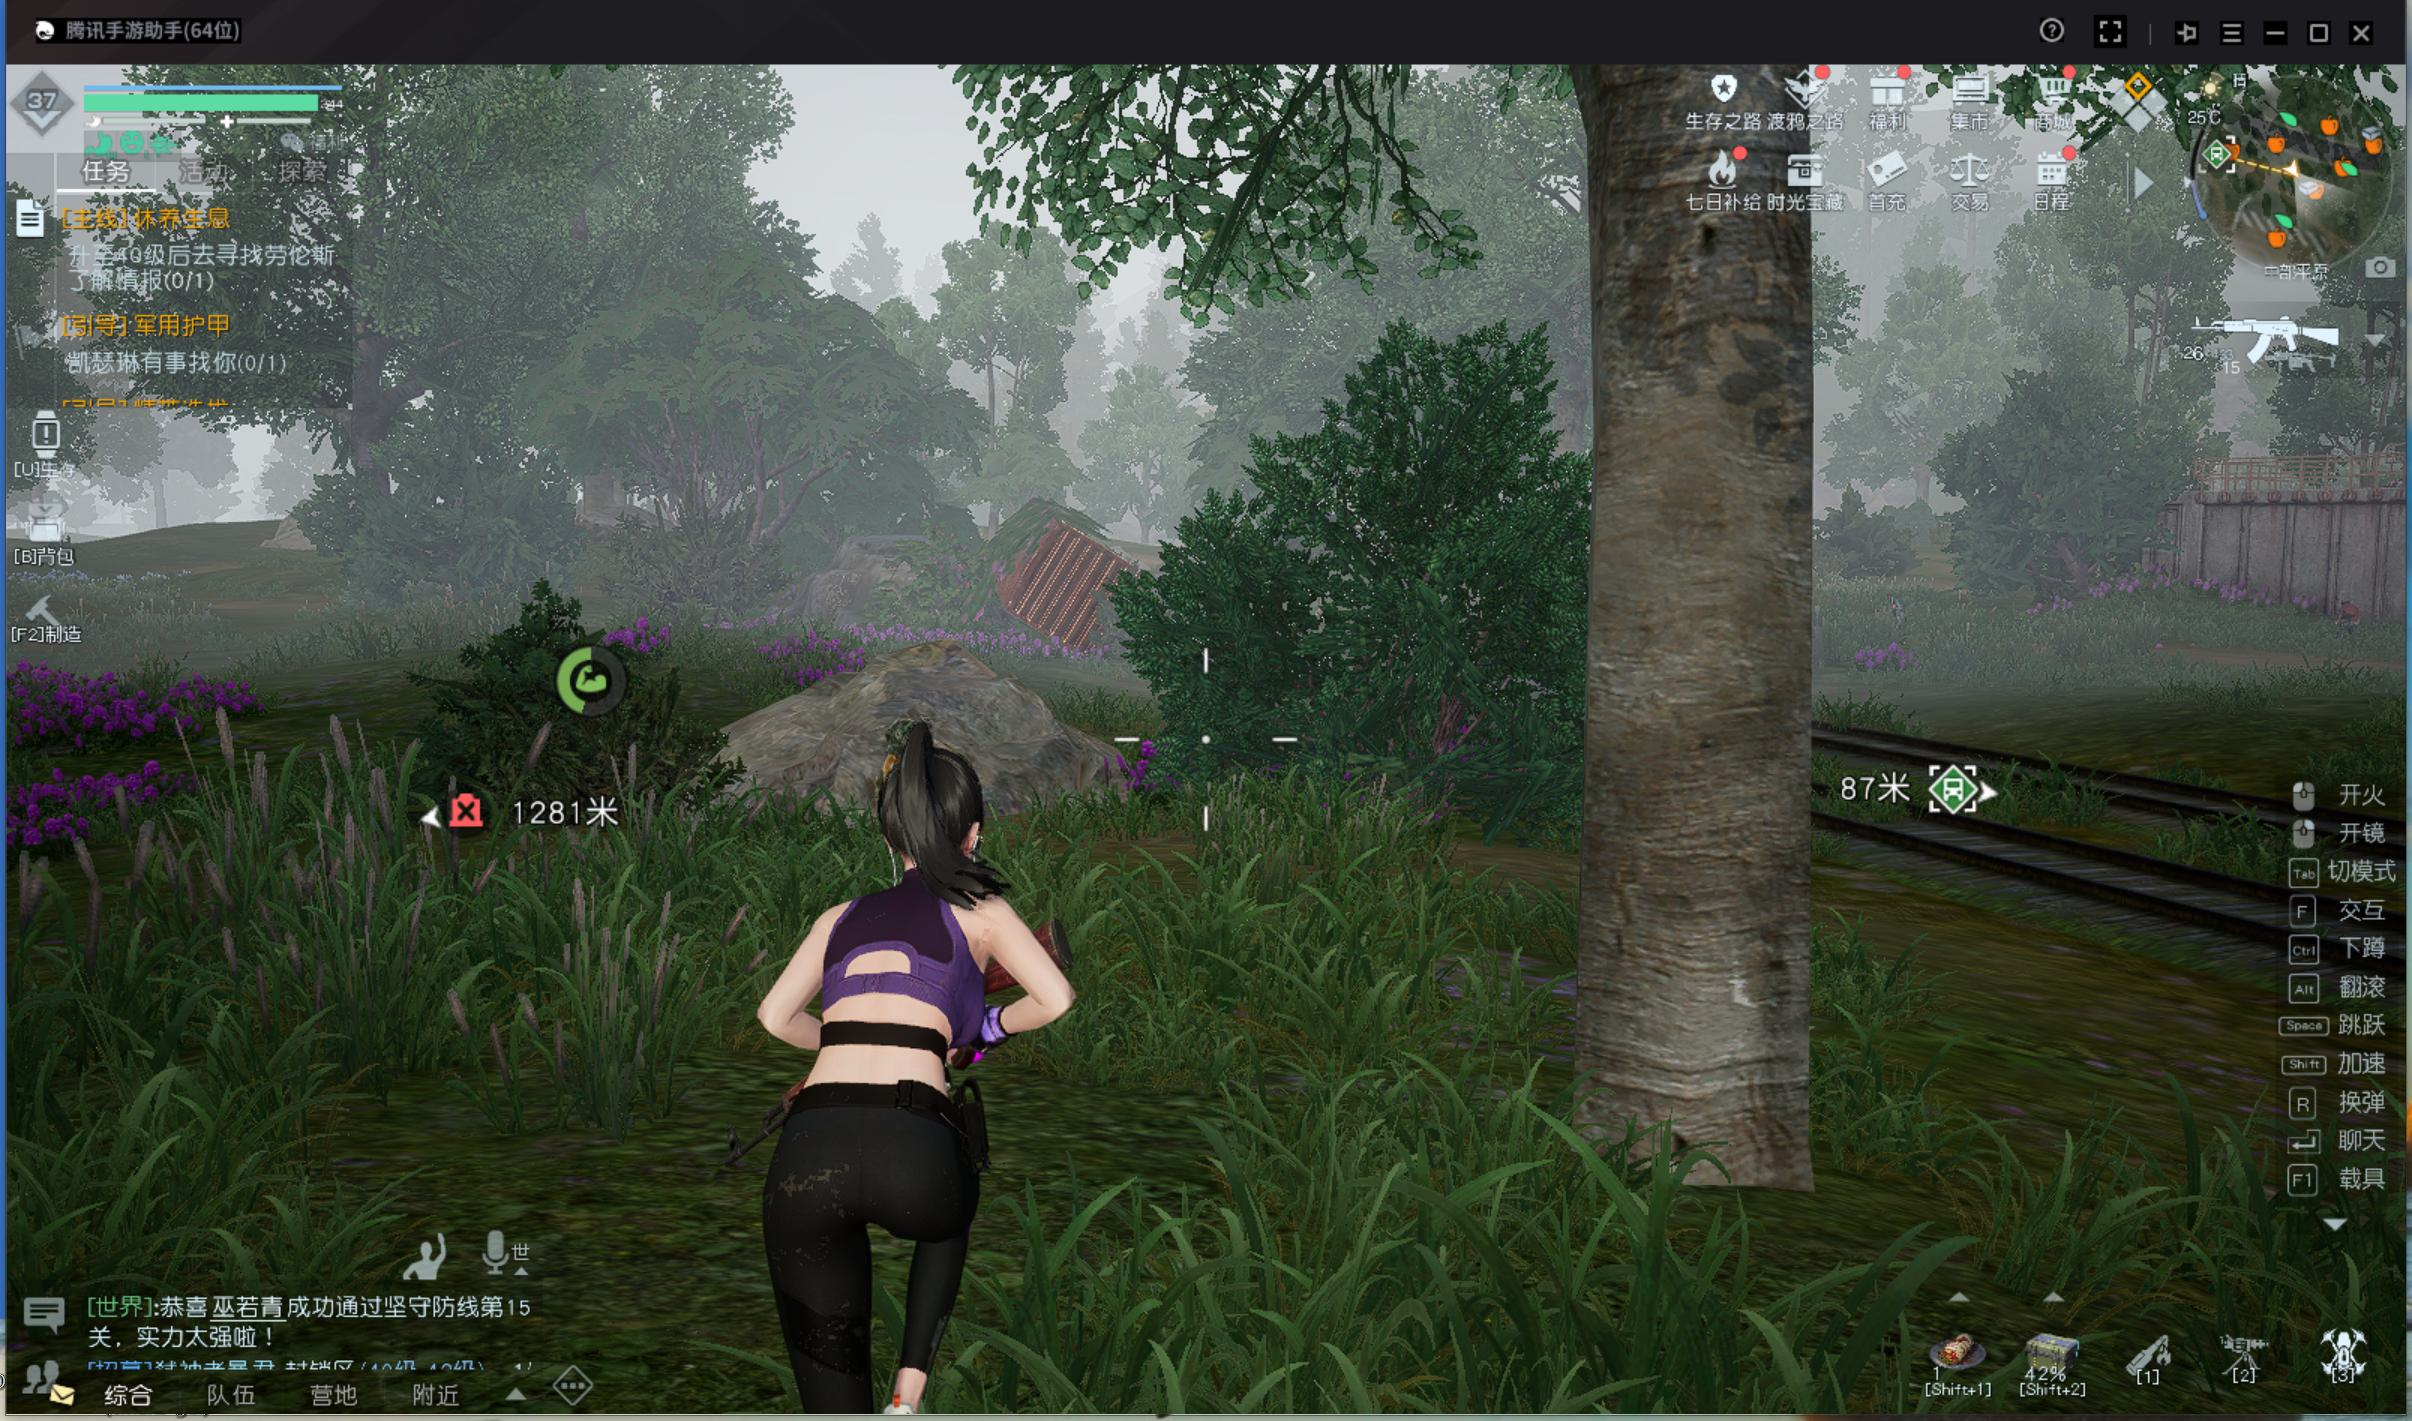tree: (1539, 188, 1849, 1213)
